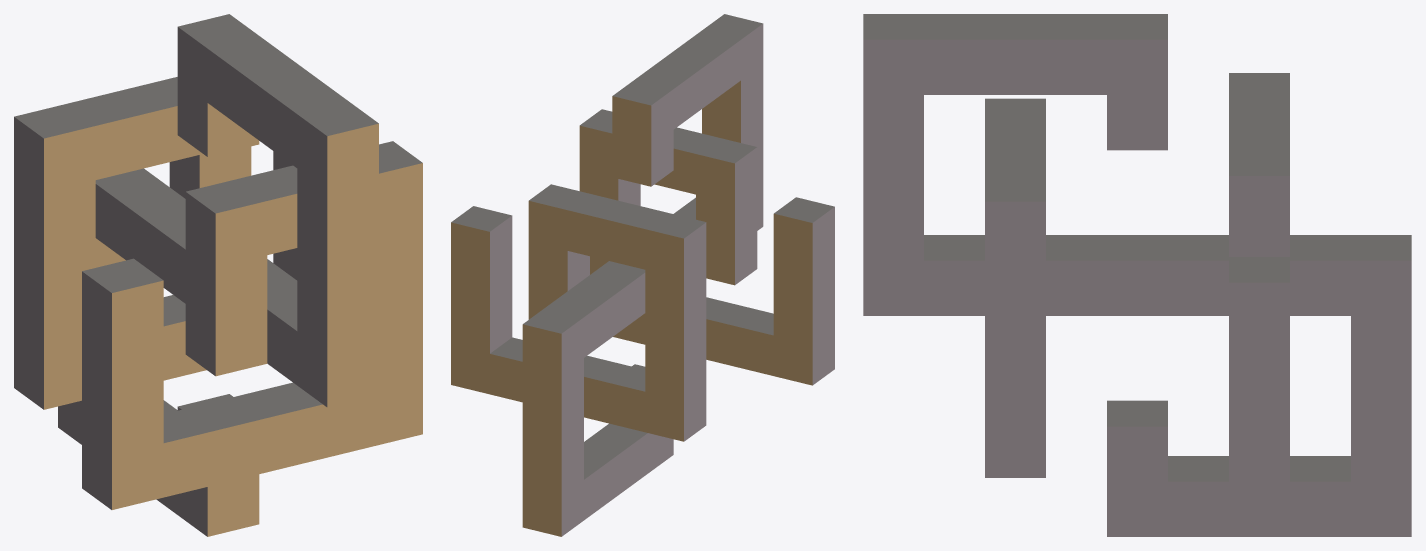
The model's file is prototype_level01.fbx.
3 views of the same model, side by side, from view 1: azimuth 30°, elevation 25°; view 2: azimuth 150°, elevation 25°; view 3: azimuth 270°, elevation 25° (orthographic). The views are drawn at different scales.
Visible parts, largest first — view 1: level; view 2: level; view 3: level.
Part boxes in pixels (x1,y1,x2,y2): level: (14,14,422,536); level: (451,14,834,536); level: (863,14,1411,536).
Bounding box in the file's own units: 14 × 18 × 18.
